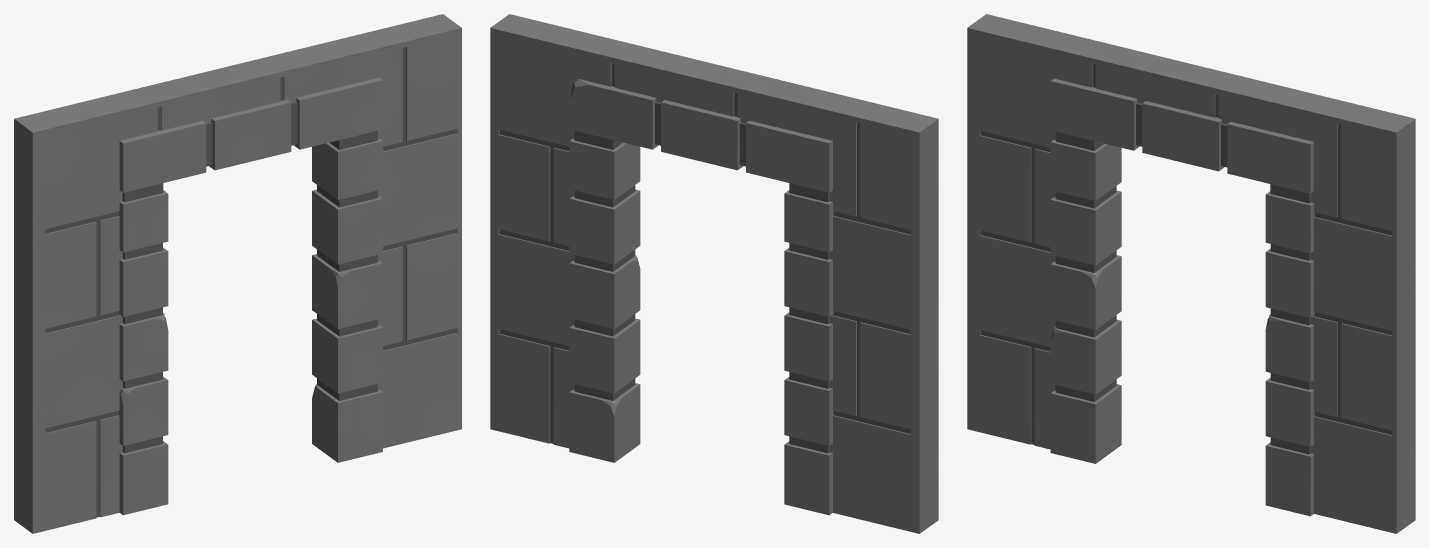
Rendered from Arch_6_Wall.fbx.
3 views of the same model, side by side, from view 1: azimuth 30°, elevation 25°; view 2: azimuth 150°, elevation 25°; view 3: azimuth 330°, elevation 25° (orthographic).
Parts seen in each view (by area): view 1: Arch 6 Wall; view 2: Arch 6 Wall; view 3: Arch 6 Wall.
Part boxes in pixels (box(x1,y1,x2,y2)): Arch 6 Wall: box(14, 14, 461, 533); Arch 6 Wall: box(490, 14, 938, 533); Arch 6 Wall: box(967, 14, 1415, 533).
Bounding box in the file's own units: 280 × 250 × 29.34.
